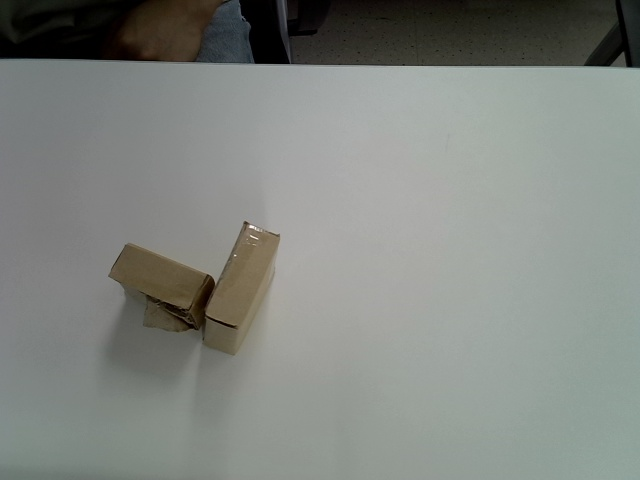normal: (203, 222, 281, 356), (107, 242, 214, 332)
